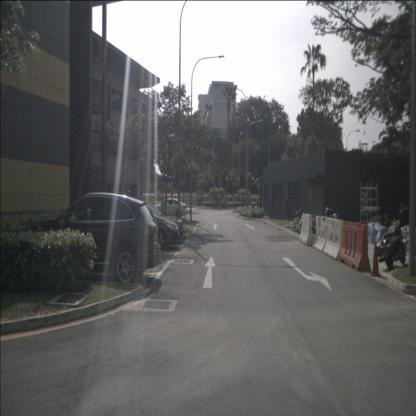barrier: (339, 221, 371, 272), (322, 217, 344, 261), (312, 215, 330, 252), (300, 213, 314, 246)
cone: (370, 242, 380, 276)
